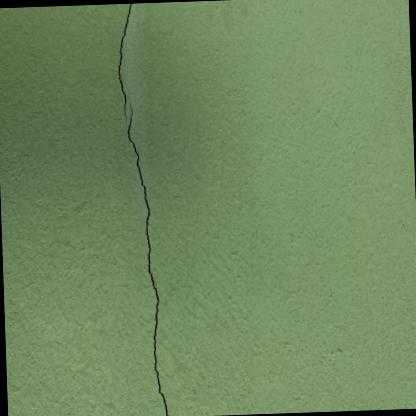crack: (127, 106, 168, 416), (118, 3, 132, 124)
